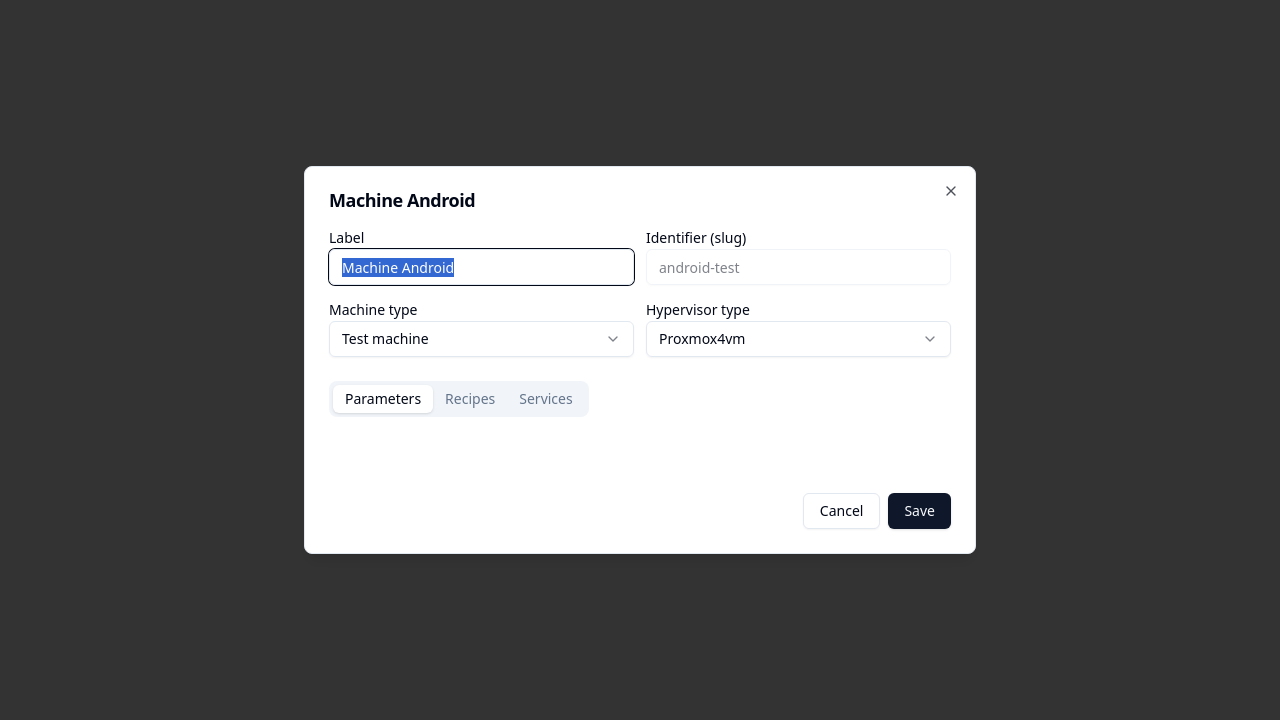
Scenario: MachineProfileEditor — recettes › propose les options declarees par la recette
This screenshot has width=1280, height=720.
Click the tab "Recipes" at (470, 399), box [433,385,507,413]
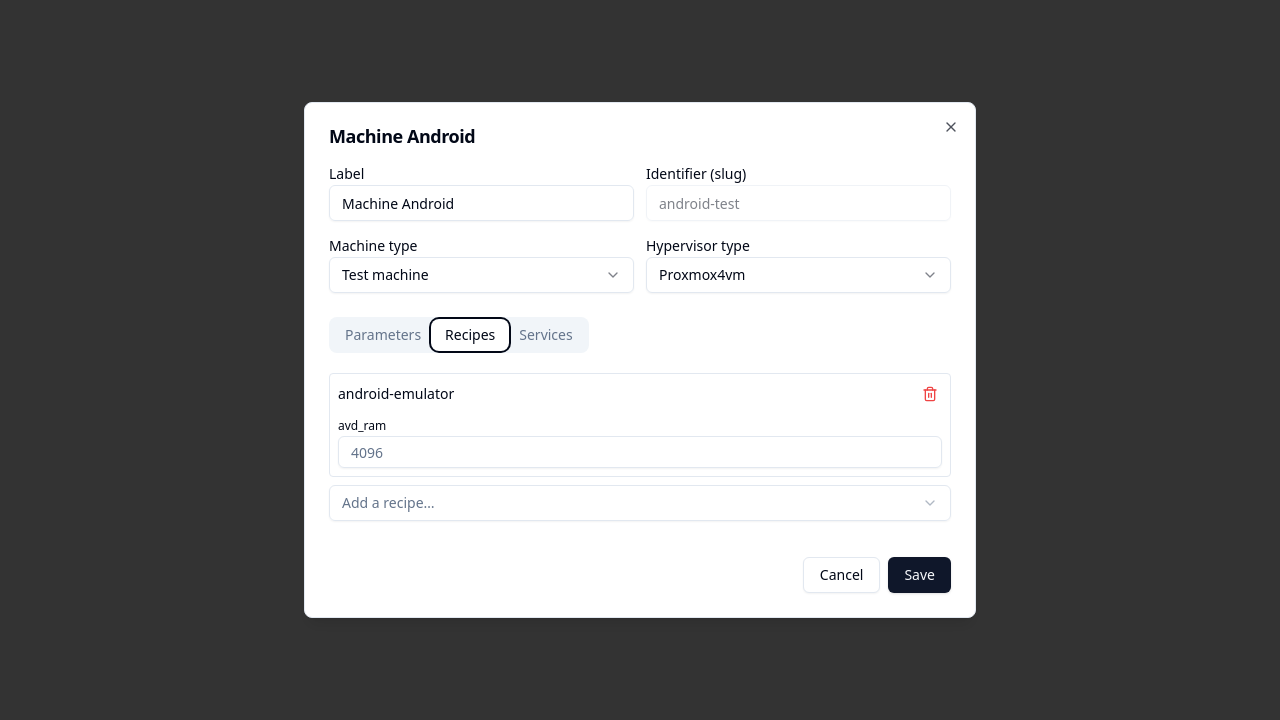
Expected: the text "avd_ram" is shown, [338,417,386,434]
